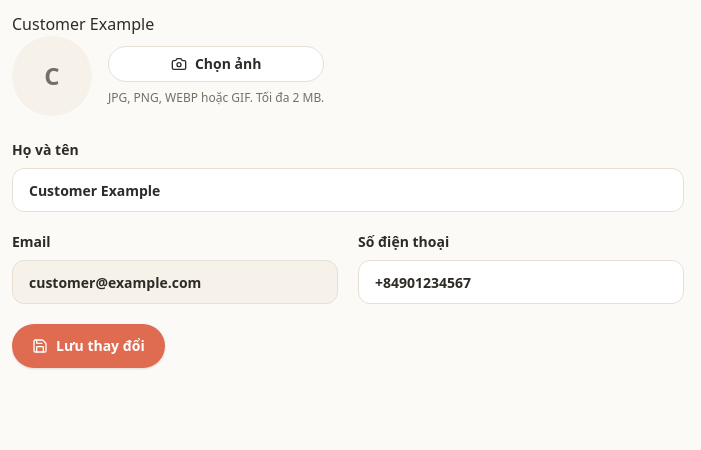
Test: ProfileForm › submits only normalized editable fields and synchronizes the session user
Replace the text in the field labelled "Họ và tên" with "  Updated Customer  ". click: (348, 190)
box: [12,168,684,212]
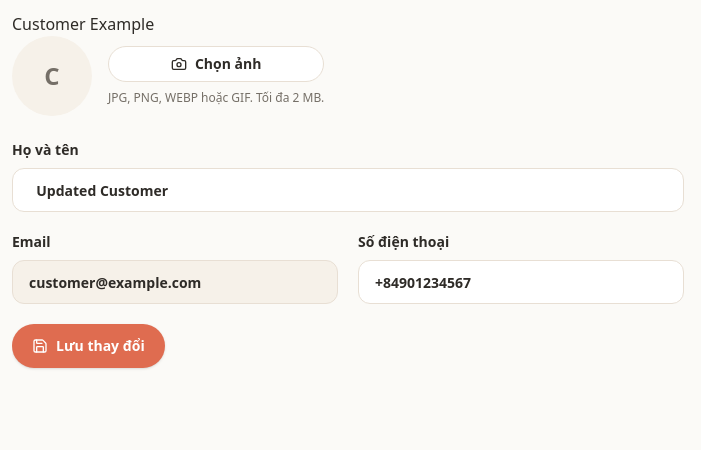
Replace the text in the field labelled "Số điện thoại" with "00 84 987-654-321". click: (521, 282)
box: [358,260,684,304]
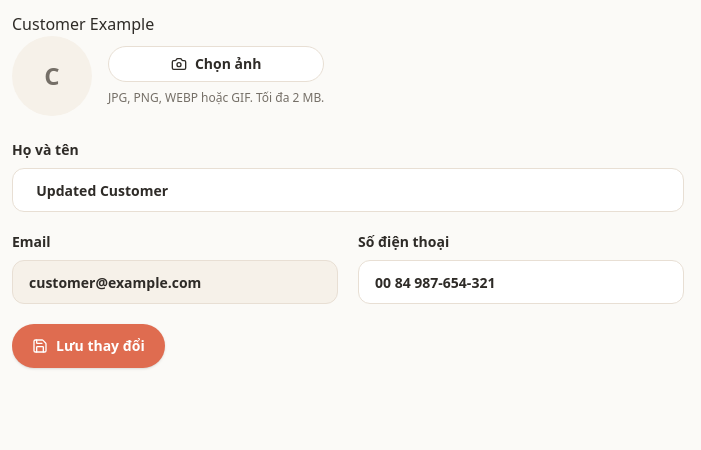
Click the button "Lưu thay đổi". click: (88, 346)
box: [12,324,165,368]
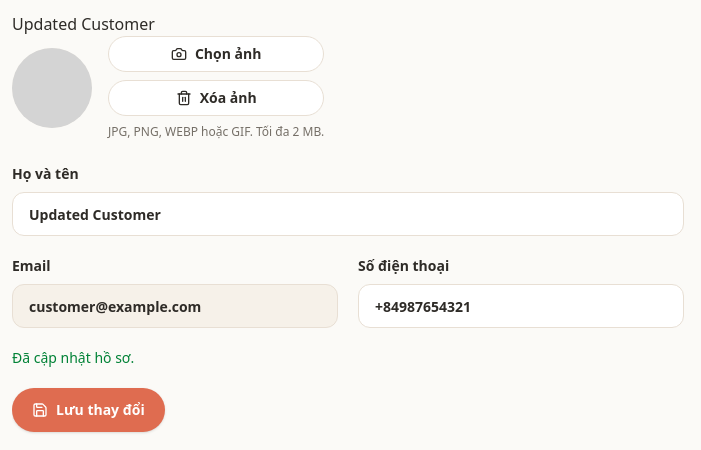
Check: the text "Đã cập nhật hồ sơ." is shown, box [12,348,134,367]
Check: the text with test id "session-name" reads "Updated Customer", box [12,13,155,35]
